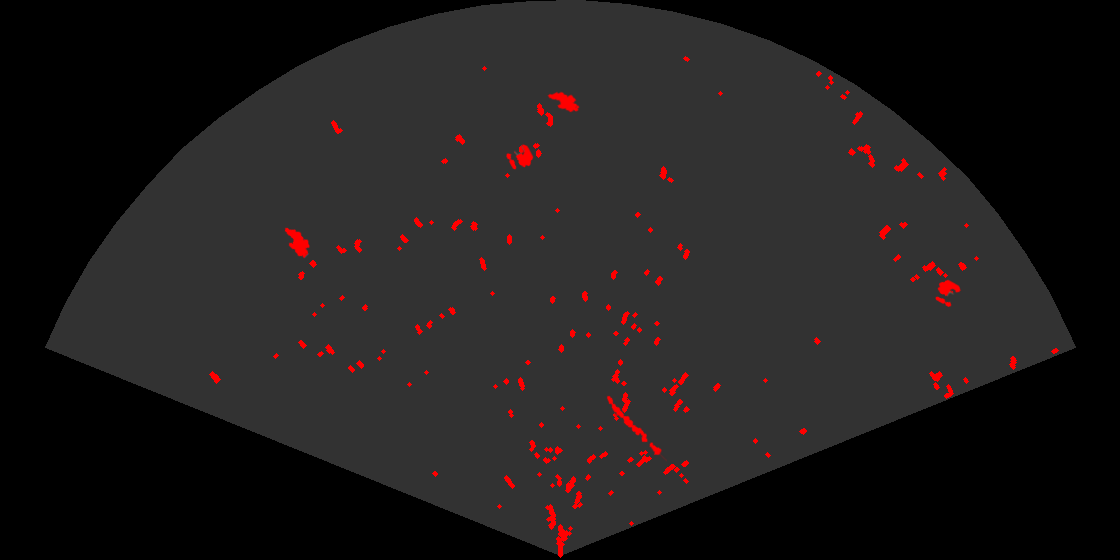AUV: (283, 226, 311, 260), (546, 90, 581, 114)
ball: (934, 278, 963, 309), (505, 143, 535, 171)
chain: (605, 394, 667, 463)
